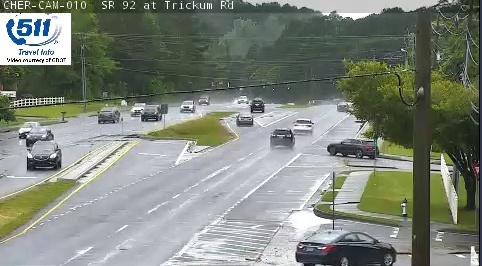car: (270, 129, 293, 146), (293, 118, 313, 133), (238, 114, 253, 126)
